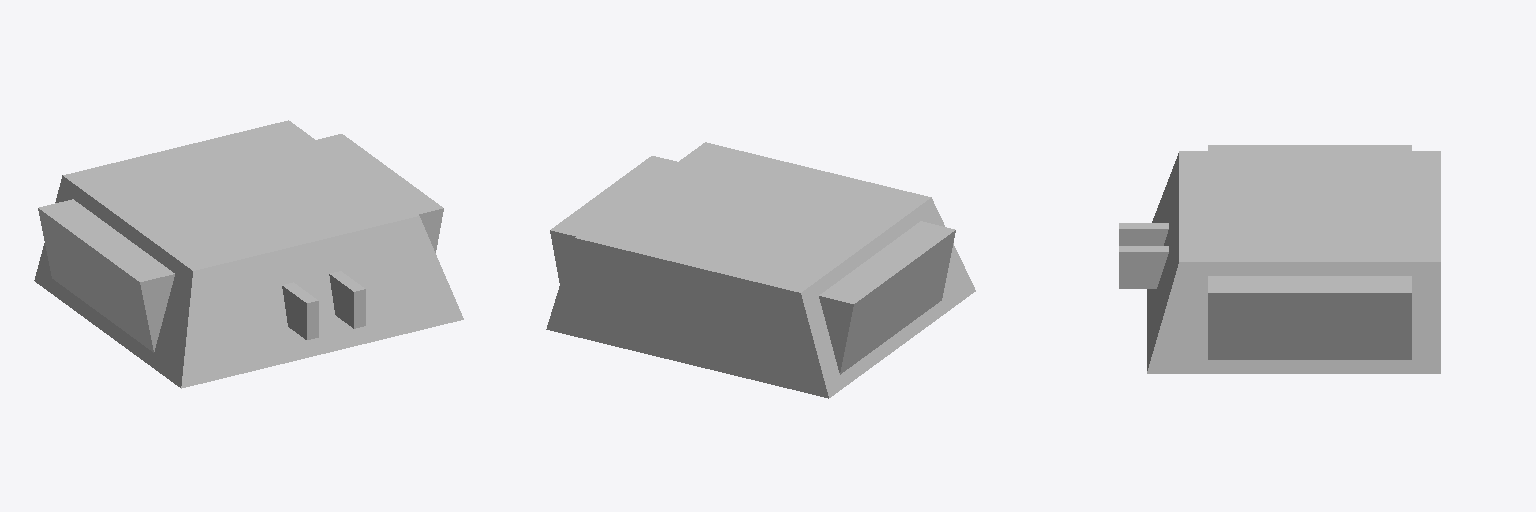
The model's file is launch_pad.obj.
The picture shows the model from 3 angles: view 1: azimuth 30°, elevation 25°; view 2: azimuth 150°, elevation 25°; view 3: azimuth 270°, elevation 25°; orthographic projection.
Parts seen in each view (by area): view 1: Cube, Box1_Cube.011, Box3_Cube.009, Arm2_Cube.001, Arm1_Cube.003; view 2: Cube, Box1_Cube.011, Box3_Cube.009; view 3: Cube, Box3_Cube.009, Arm1_Cube.003, Box1_Cube.011, Arm2_Cube.001.
Part boxes in pixels (left/top/right/bottom): Cube: left=34, top=120, right=463, bottom=388; Box1_Cube.011: left=38, top=199, right=174, bottom=352; Box3_Cube.009: left=317, top=134, right=443, bottom=252; Arm2_Cube.001: left=282, top=282, right=318, bottom=339; Arm1_Cube.003: left=329, top=271, right=365, bottom=328; Cube: left=546, top=142, right=975, bottom=398; Box1_Cube.011: left=819, top=221, right=955, bottom=374; Box3_Cube.009: left=550, top=156, right=676, bottom=282; Cube: left=1147, top=151, right=1440, bottom=373; Box3_Cube.009: left=1208, top=276, right=1411, bottom=359; Arm1_Cube.003: left=1119, top=246, right=1168, bottom=288; Box1_Cube.011: left=1208, top=145, right=1411, bottom=150; Arm2_Cube.001: left=1119, top=223, right=1168, bottom=245.
Bounding box in the file's own units: 2.58 × 0.8 × 2.36.